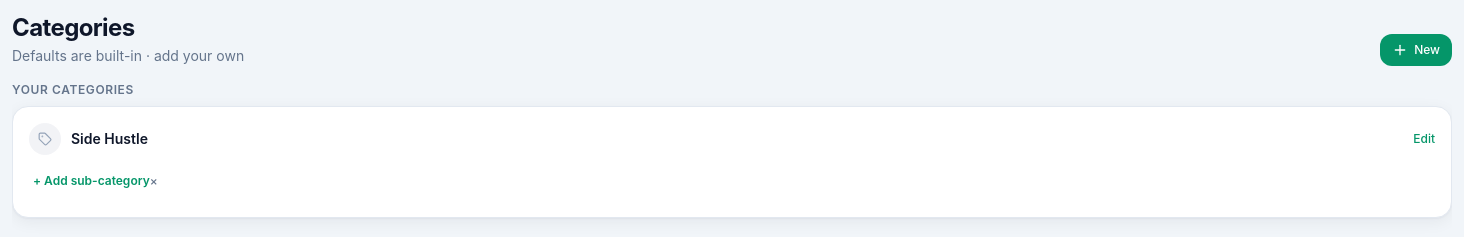
Categories page › deletes a custom top-level category via the API (not just local state)
This screenshot has width=1464, height=237.
Expected: the text "Side Hustle" is shown, [71, 129, 148, 149]
Only one delete affordance exists here: the category's own (no sub-categories).
Click the button "×" at (154, 181), box [150, 173, 158, 189]
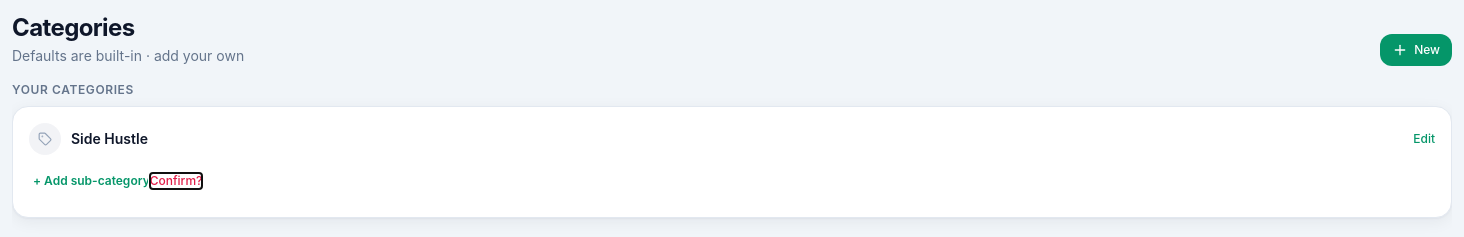
Click the button "Confirm?" at (176, 181), box [150, 173, 202, 189]
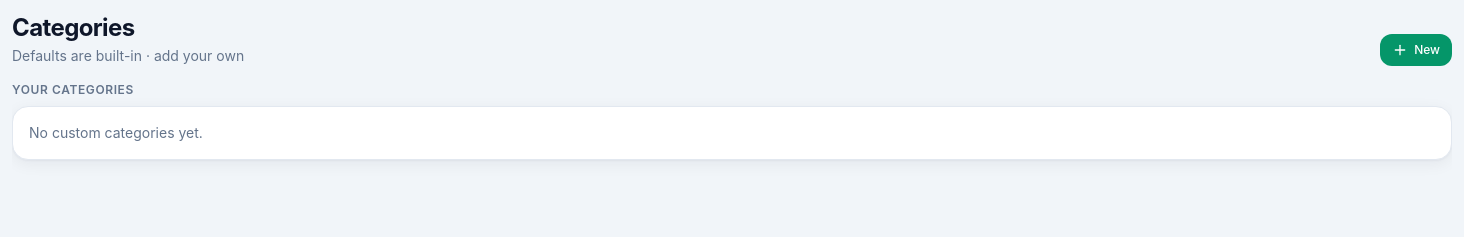
Now the text "Side Hustle" is gone
